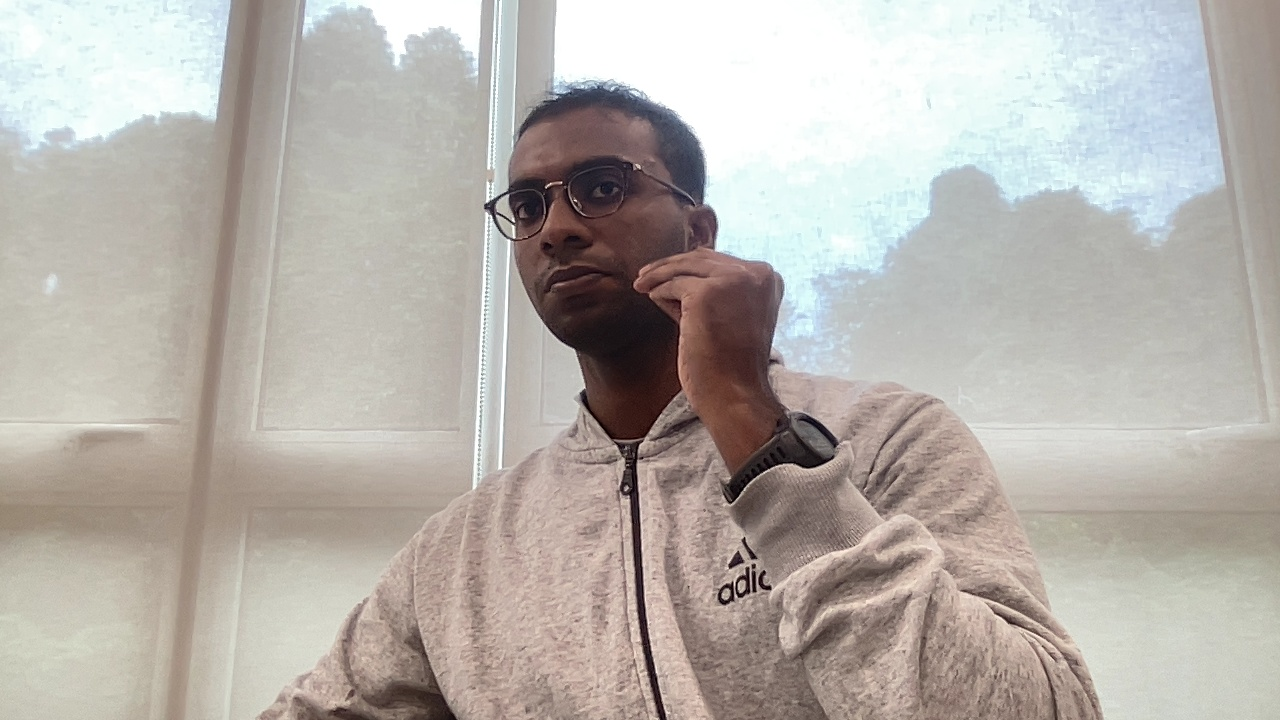eat: (627, 244, 790, 404)
